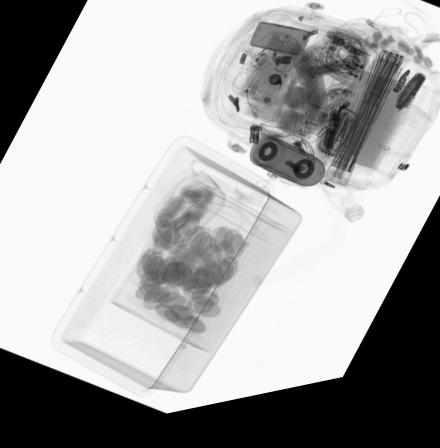Knife: (393, 91, 424, 129)
